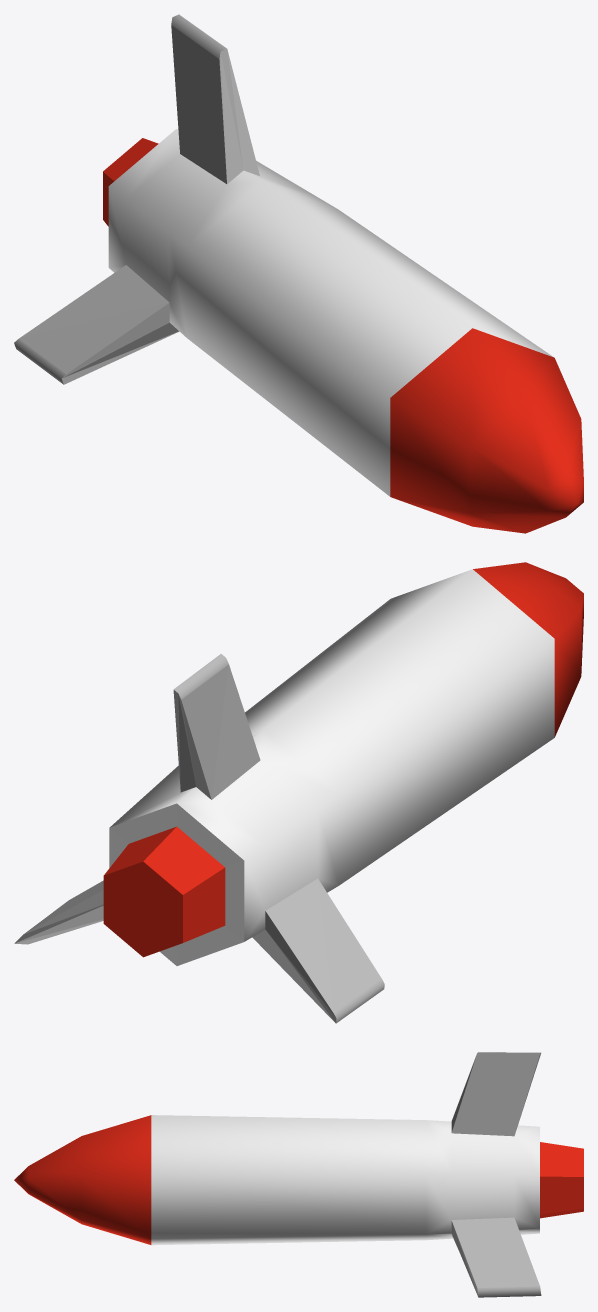
Rendered from Export_Missile.FBX.
The picture shows the model from 3 angles, top to bottom: view 1: azimuth 30°, elevation 25°; view 2: azimuth 150°, elevation 25°; view 3: azimuth 270°, elevation 25°; orthographic projection. The views are drawn at different scales.
Parts seen in each view (by area): view 1: Cylinder002; view 2: Cylinder002; view 3: Cylinder002.
Part boxes in pixels (x1,y1,x2,y2): Cylinder002: (14,14,583,533); Cylinder002: (14,562,583,1023); Cylinder002: (14,1052,583,1297).
Size of the model in its own units: 50.27 by 43.69 by 116.
